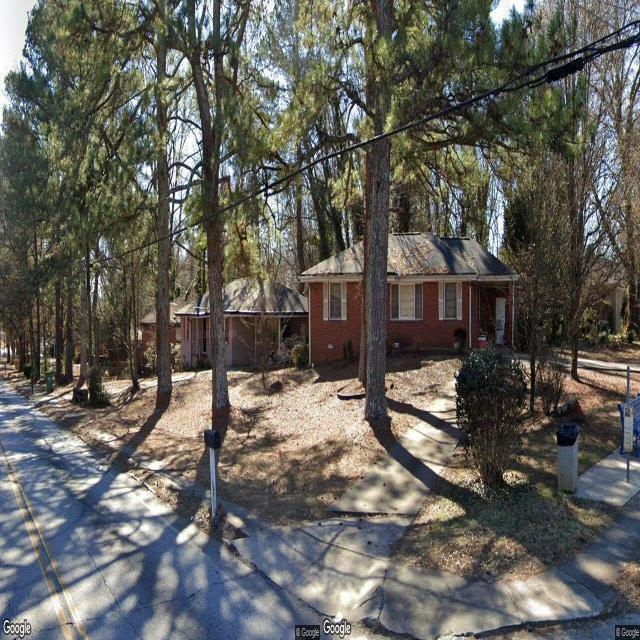seating: (618, 396, 640, 459)
trash_can: (556, 424, 580, 492)
